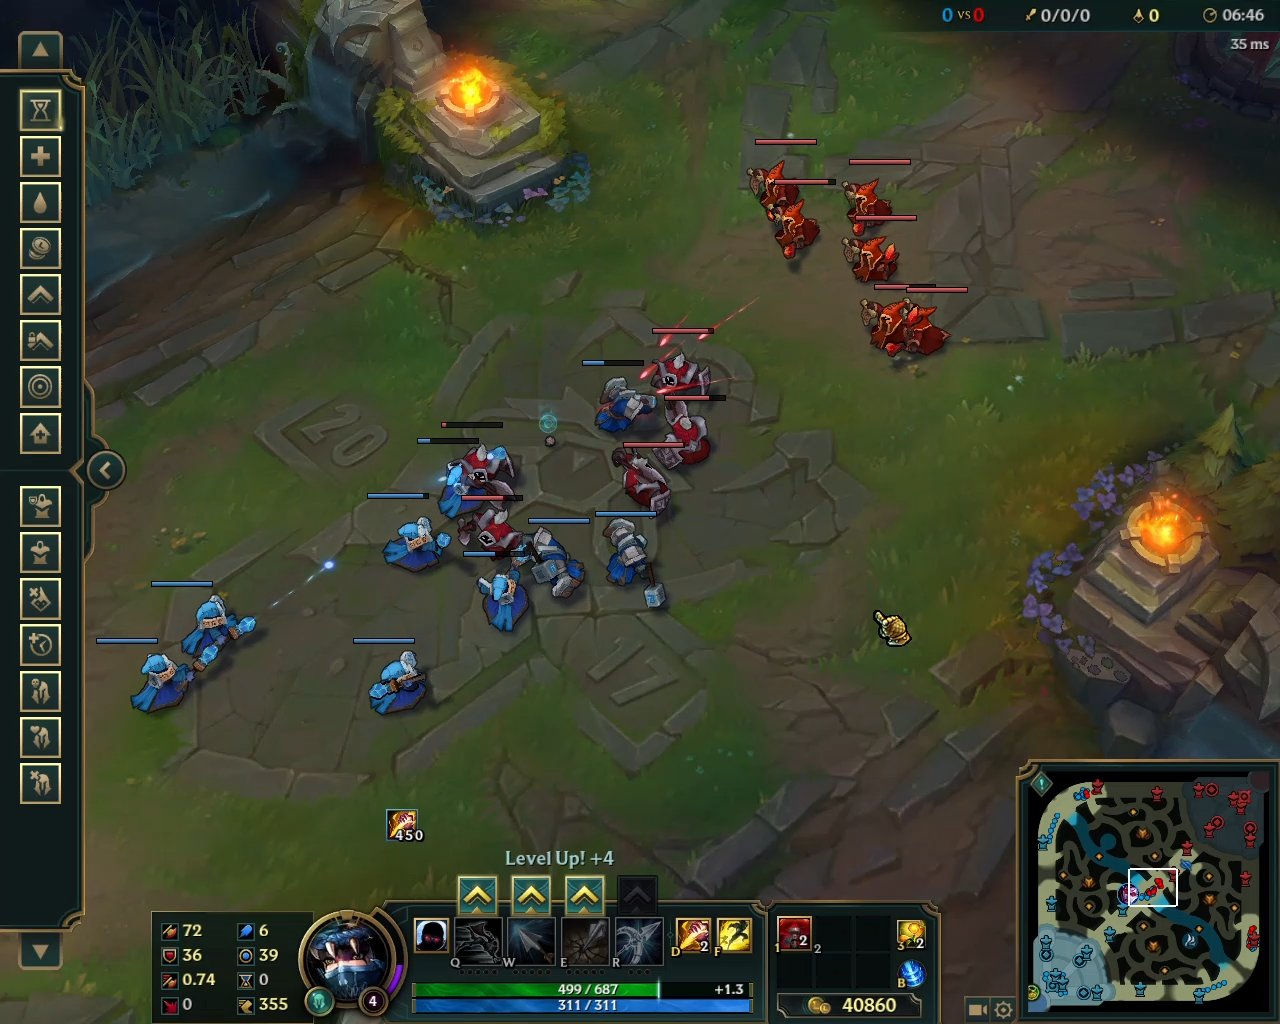EnemyMinion: (602, 440, 685, 518), (651, 392, 731, 472), (761, 179, 835, 262), (837, 160, 911, 237), (834, 216, 917, 282), (646, 327, 717, 401), (894, 287, 968, 356), (747, 138, 815, 212), (455, 494, 523, 566), (857, 283, 918, 360)
